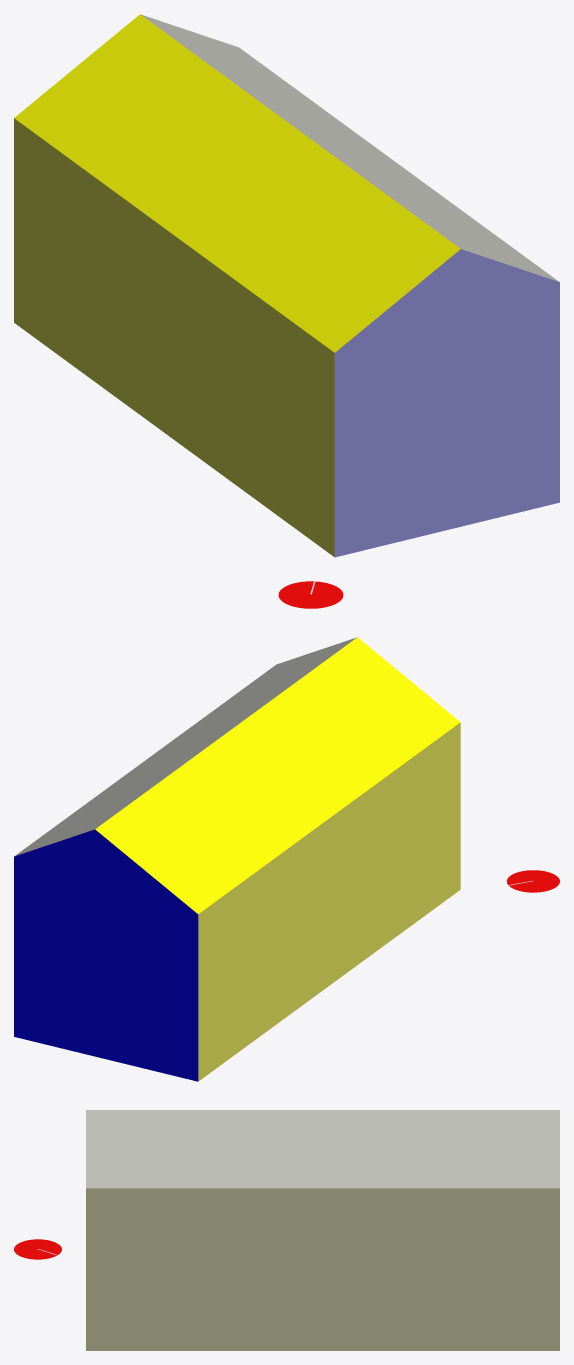
The model's file is result.glb.
3 renders of one model, top to bottom at view 1: azimuth 30°, elevation 25°; view 2: azimuth 150°, elevation 25°; view 3: azimuth 270°, elevation 25°, orthographic. The views are drawn at different scales.
Parts seen in each view (by area): view 1: 741446f3-75c4-4450-af9f-1394bc926e32__undefined, 5f19e7ee-41cc-4bd9-b6c9-0b2052e474c5__undefined, f845b164-4e51-4b69-a9ea-472502732c9e__undefined, f438cd68-66a9-47bd-98aa-56d4a1fe9149__undefined, 73573423-22c2-48cc-b2cd-a7f6eefb97e4__Circle; view 2: 741446f3-75c4-4450-af9f-1394bc926e32__undefined, 5f19e7ee-41cc-4bd9-b6c9-0b2052e474c5__undefined, 74f155e2-68a7-43d5-ad25-907151c7923a__undefined, f438cd68-66a9-47bd-98aa-56d4a1fe9149__undefined, 73573423-22c2-48cc-b2cd-a7f6eefb97e4__Circle; view 3: 53c51e66-c2be-4d62-96bf-c51b9ba23880__undefined, f438cd68-66a9-47bd-98aa-56d4a1fe9149__undefined, 73573423-22c2-48cc-b2cd-a7f6eefb97e4__Circle.
Boxes of the visible parts, left/top/right/bottom form: 741446f3-75c4-4450-af9f-1394bc926e32__undefined: left=14, top=118, right=334, bottom=556; 5f19e7ee-41cc-4bd9-b6c9-0b2052e474c5__undefined: left=14, top=14, right=460, bottom=352; f845b164-4e51-4b69-a9ea-472502732c9e__undefined: left=334, top=249, right=559, bottom=557; f438cd68-66a9-47bd-98aa-56d4a1fe9149__undefined: left=141, top=14, right=558, bottom=281; 73573423-22c2-48cc-b2cd-a7f6eefb97e4__Circle: left=278, top=581, right=343, bottom=608; 741446f3-75c4-4450-af9f-1394bc926e32__undefined: left=198, top=722, right=460, bottom=1081; 5f19e7ee-41cc-4bd9-b6c9-0b2052e474c5__undefined: left=95, top=637, right=460, bottom=914; 74f155e2-68a7-43d5-ad25-907151c7923a__undefined: left=14, top=829, right=198, bottom=1081; f438cd68-66a9-47bd-98aa-56d4a1fe9149__undefined: left=14, top=637, right=356, bottom=856; 73573423-22c2-48cc-b2cd-a7f6eefb97e4__Circle: left=507, top=870, right=559, bottom=892; 53c51e66-c2be-4d62-96bf-c51b9ba23880__undefined: left=86, top=1188, right=559, bottom=1350; f438cd68-66a9-47bd-98aa-56d4a1fe9149__undefined: left=86, top=1110, right=559, bottom=1188; 73573423-22c2-48cc-b2cd-a7f6eefb97e4__Circle: left=14, top=1239, right=61, bottom=1259.
Size of the model in its own units: 550 by 471 by 1137.
